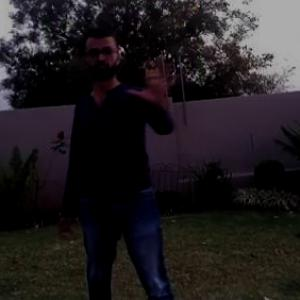follow_hand: (124, 50, 181, 109)
